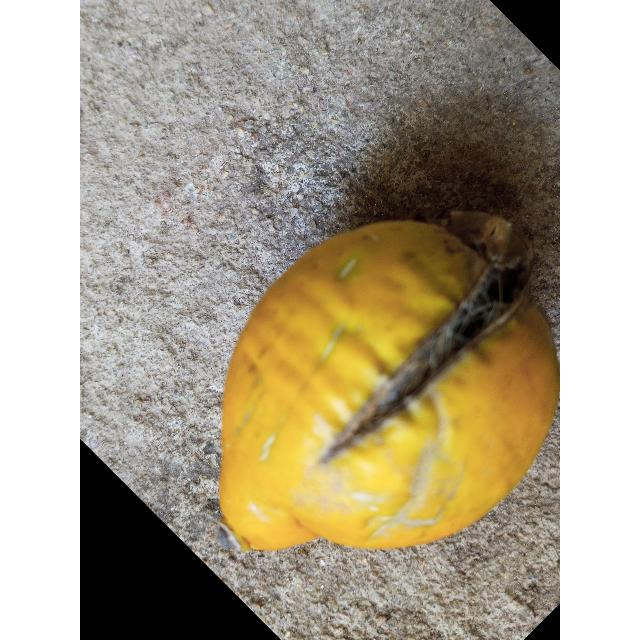damaged: (219, 210, 560, 551)
